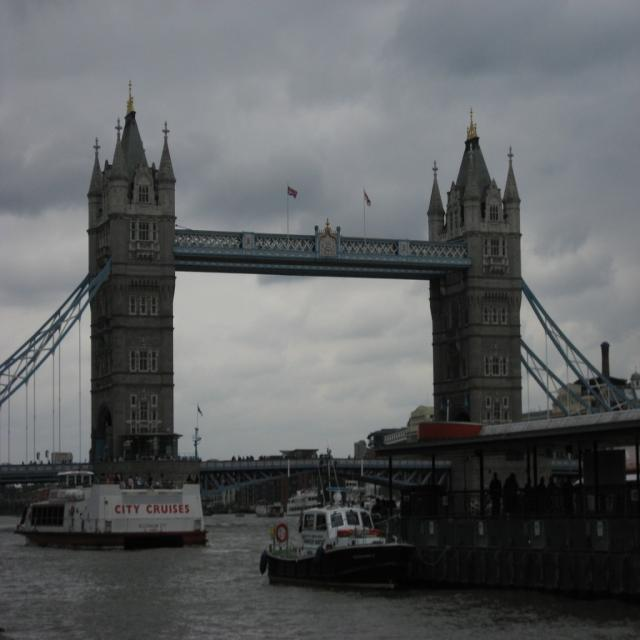Boat: (254, 482, 423, 590), (21, 470, 220, 552)
